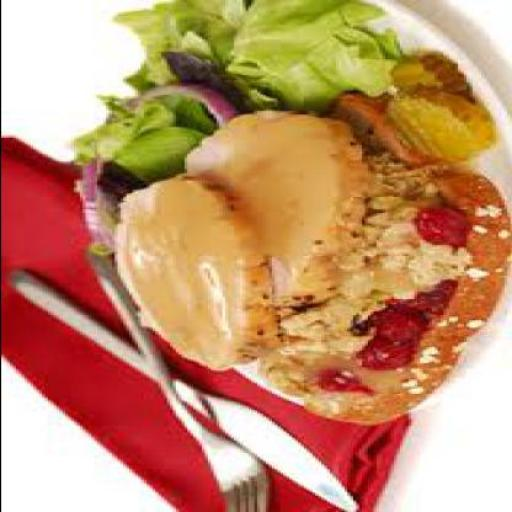biodegradable: (253, 93, 509, 424), (177, 117, 369, 304), (108, 179, 274, 374), (84, 84, 238, 256), (224, 2, 399, 116), (114, 2, 247, 100), (64, 97, 209, 163), (378, 90, 492, 159), (107, 129, 215, 181), (338, 254, 436, 310), (163, 51, 242, 107), (346, 306, 416, 368), (291, 302, 358, 366), (381, 54, 462, 104), (360, 202, 419, 258), (408, 204, 456, 249), (305, 366, 369, 398), (410, 274, 460, 312), (404, 250, 462, 278), (96, 164, 128, 199)
metal: (5, 272, 356, 511), (85, 258, 265, 511)
